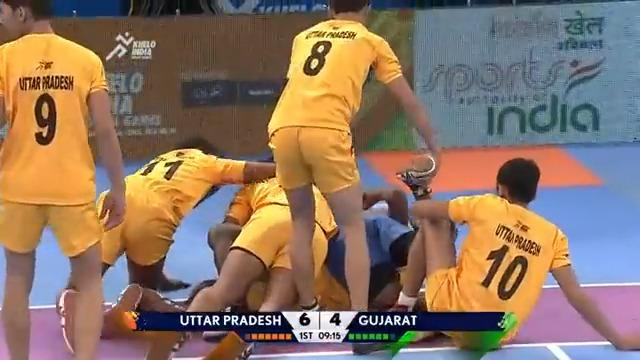Player: (265, 0, 442, 353), (393, 153, 635, 355), (0, 0, 127, 358), (239, 144, 333, 311), (132, 130, 196, 287)
